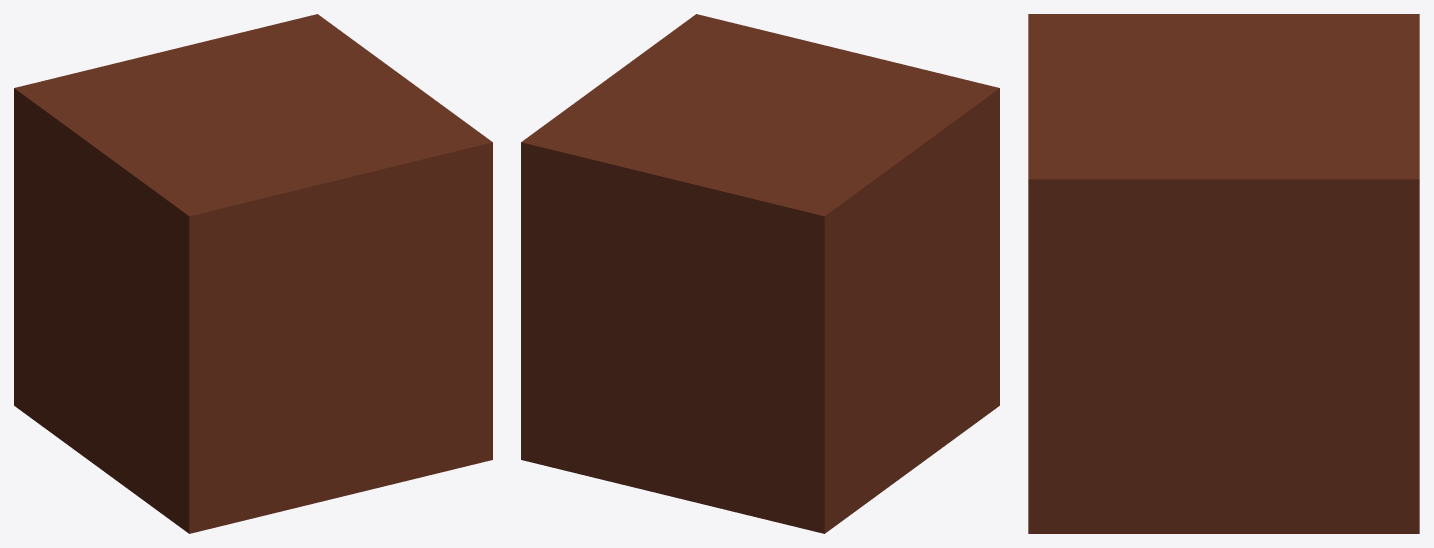
The model's file is crate.glb.
3 renders of one model, left to right at view 1: azimuth 30°, elevation 25°; view 2: azimuth 150°, elevation 25°; view 3: azimuth 270°, elevation 25°, orthographic. The views are drawn at different scales.
Parts seen in each view (by area): view 1: Cube; view 2: Cube; view 3: Cube.
Boxes of the visible parts, box(x1,y1,x2,y2) form: Cube: box(14, 14, 492, 533); Cube: box(521, 14, 999, 533); Cube: box(1028, 14, 1419, 533).
Size of the model in its own units: 2 by 2 by 2.
